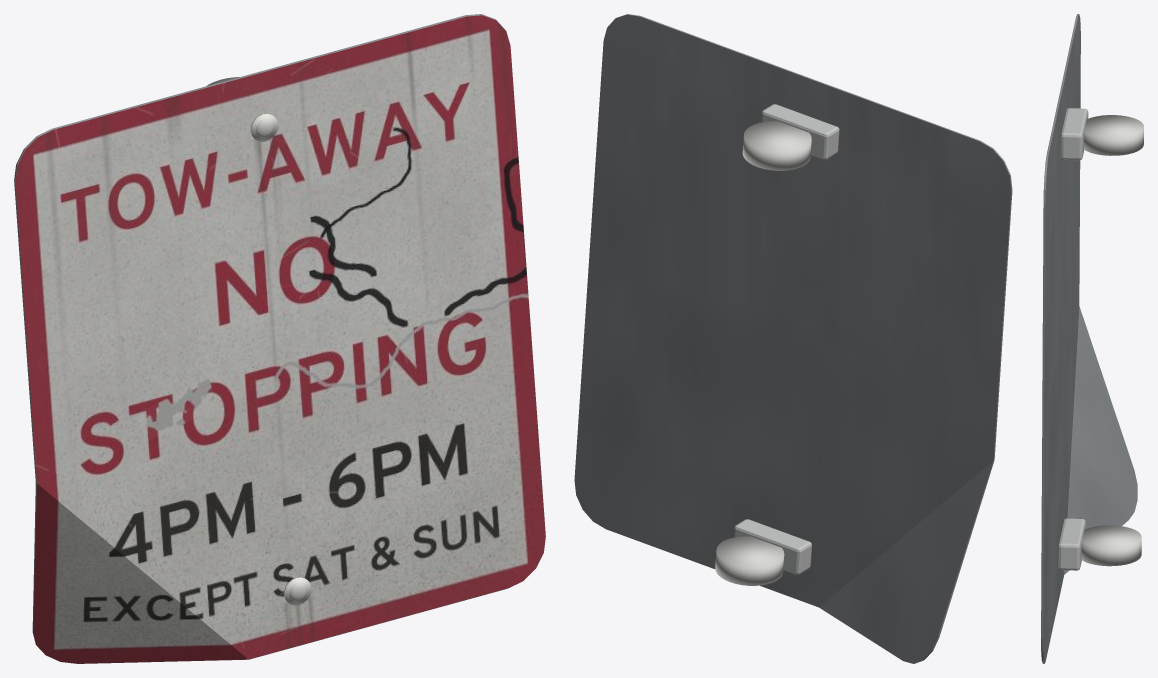
File: towAway-v1-battered.glb
3 renders of one model, left to right at view 1: azimuth 30°, elevation 25°; view 2: azimuth 150°, elevation 25°; view 3: azimuth 270°, elevation 25°, orthographic. The views are drawn at different scales.
Parts seen in each view (by area): view 1: towAway-v1-battered; view 2: towAway-v1-battered; view 3: towAway-v1-battered.
Part boxes in pixels (box(x1,y1,x2,y2)): towAway-v1-battered: box(14, 14, 545, 663); towAway-v1-battered: box(574, 14, 1012, 663); towAway-v1-battered: box(1041, 14, 1143, 663).
Bounding box in the file's own units: 0.4872 × 0.5489 × 0.1012.
Materials: 1 (1 with a texture image).
